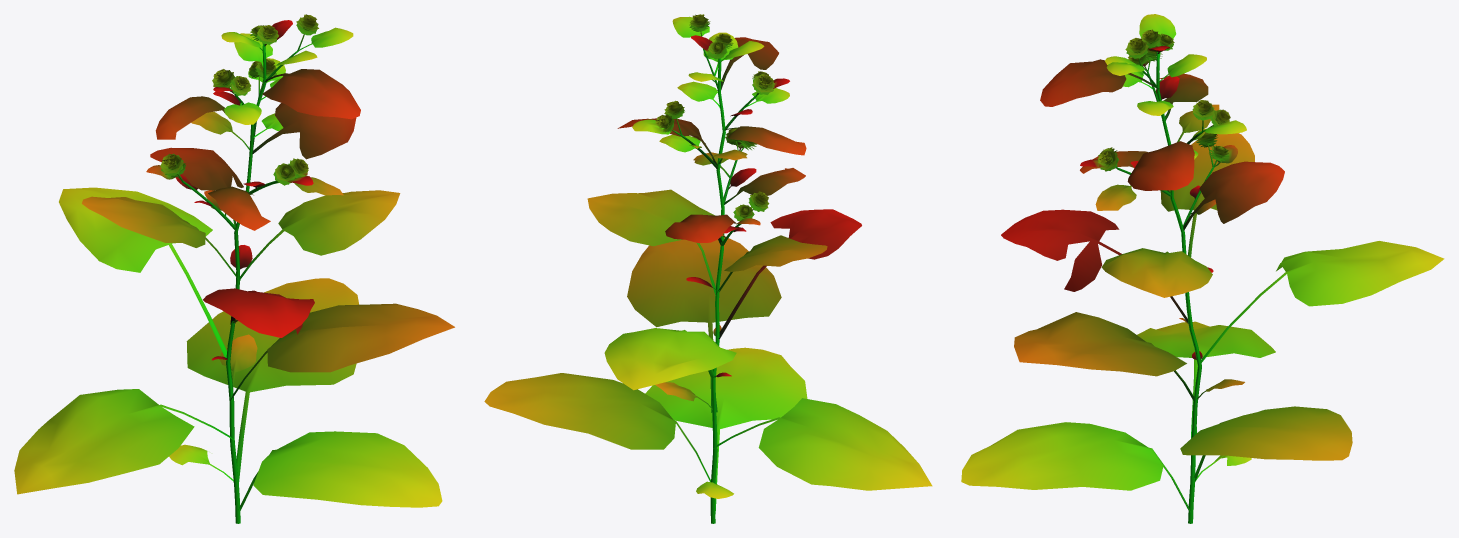
Rendered from Greater Burdock_LOD1_Var2_xh5pdgiqx.fbx.
3 renders of one model, left to right at view 1: azimuth 30°, elevation 25°; view 2: azimuth 150°, elevation 25°; view 3: azimuth 270°, elevation 25°, orthographic. The views are drawn at different scales.
Parts seen in each view (by area): view 1: _odx6_Var2_LOD1; view 2: _odx6_Var2_LOD1; view 3: _odx6_Var2_LOD1.
Part boxes in pixels (box(x1,y1,x2,y2)): _odx6_Var2_LOD1: box(14, 14, 454, 523); _odx6_Var2_LOD1: box(484, 14, 932, 523); _odx6_Var2_LOD1: box(961, 14, 1444, 523).
Bounding box in the file's own units: 76.31 × 93.94 × 81.67.
